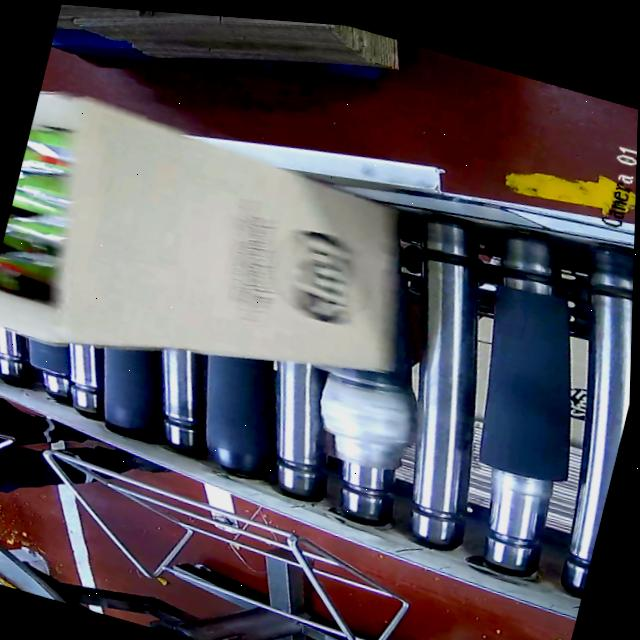YOGURT_HERB: (0, 128, 94, 305)
